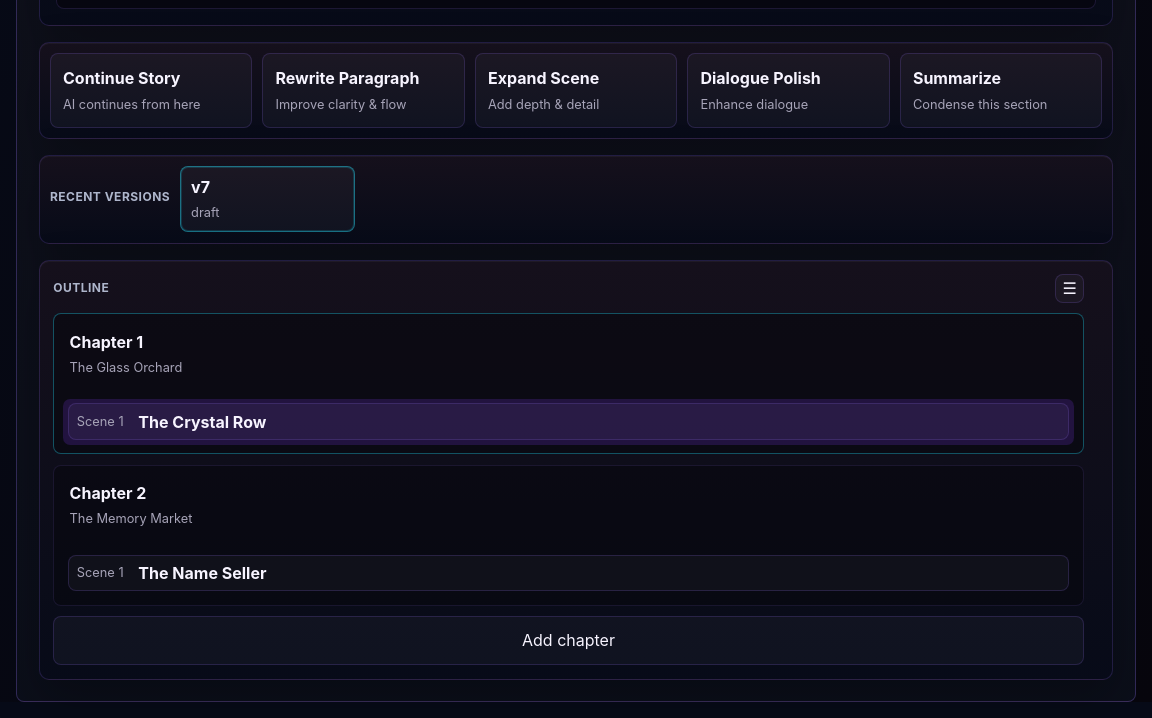
StorytellerWorkspace › derives outline entries from generated chapter and scene headings
(page scrolled)
Check: the button "Scene 1 The Crystal Row" is shown, box [68,403,1069,440]
Step 1. Click the button "Chapter 2 The Memory Market" → coordinates (108, 493), box [63,474,1074,536]
(page scrolled)
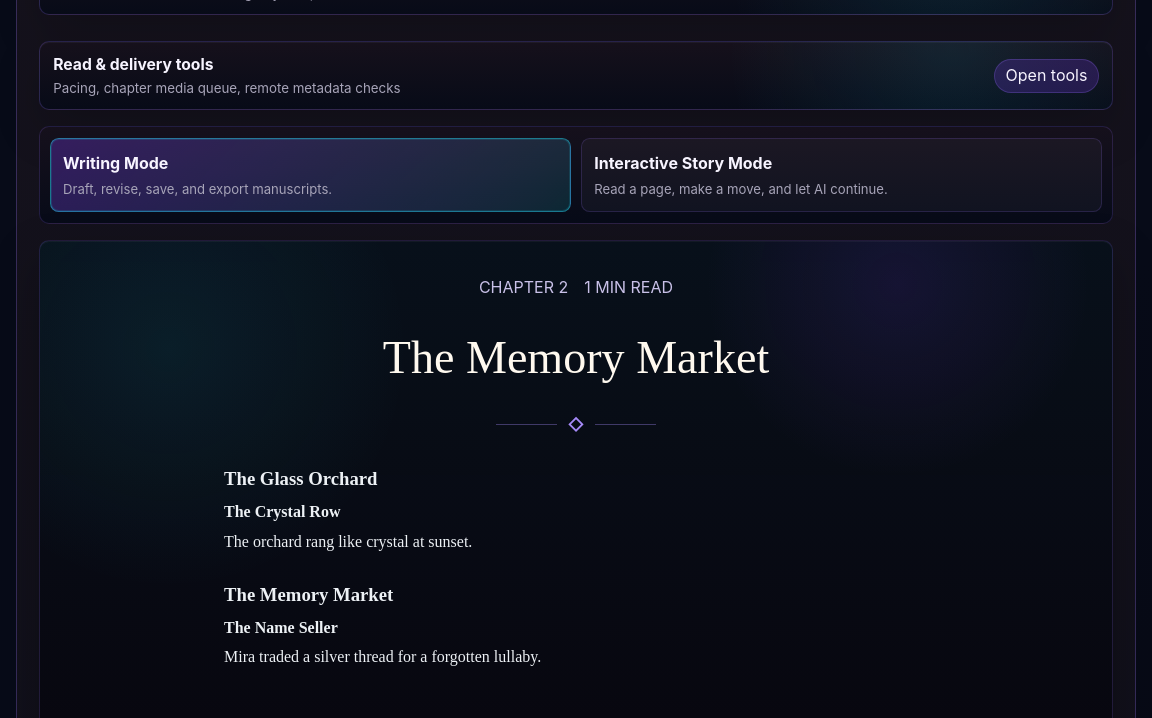
Check: the 1st heading "The Memory Market" is shown, box [383,332,769,383]
